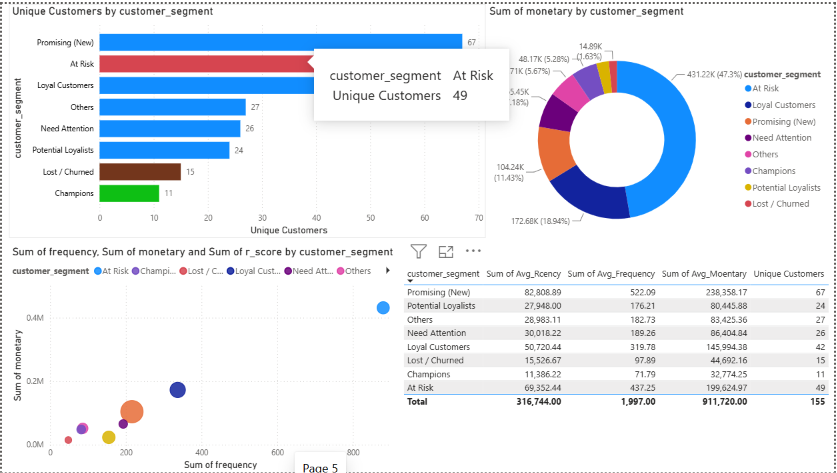

This screenshot's page, from the dashboard's own definition file:
{"tool":"powerbi","page":{"name":"Page 5","canvas":[1280,720],"ordinal":4},"visuals":[{"type":"clusteredBarChart","fields":{"Category":["public vw_rfm_segments.customer_segment"],"Y":["public retail_sales.Unique Customers"]},"box":[10,0,734,360],"z":0},{"type":"donutChart","fields":{"Category":["public vw_rfm_segments.customer_segment"],"Y":["Sum(public vw_rfm_segments.monetary)"]},"box":[744,0,536,398],"z":1000},{"type":"scatterChart","fields":{"Series":["public vw_rfm_segments.customer_segment"],"Size":["Sum(public vw_rfm_segments.r_score)"],"Y":["Sum(public vw_rfm_segments.monetary)"],"X":["Sum(public vw_rfm_segments.frequency)"]},"box":[10,370,602,350],"z":2000},{"type":"tableEx","fields":{"Values":["public vw_rfm_segments.customer_segment","Sum(public vw_rfm_segments.Avg_Rcency)","Sum(public vw_rfm_segments.Avg_Frequency)","Sum(public vw_rfm_segments.Avg_Moentary)","public retail_sales.Unique Customers"]},"box":[612,398,668,322],"z":3000}]}

Visuals, with their boxes in screenshot pixels (x1, y1, x2, y2), scaled from the page's 1280x720 canvas onto the 837x473 screenshot:
clusteredBarChart - public vw_rfm_segments.customer_segment x public retail_sales.Unique Customers: Rect(7, 0, 487, 236)
donutChart - public vw_rfm_segments.customer_segment x Sum(public vw_rfm_segments.monetary): Rect(487, 0, 836, 261)
scatterChart - public vw_rfm_segments.customer_segment x Sum(public vw_rfm_segments.r_score): Rect(7, 243, 400, 472)
tableEx - public vw_rfm_segments.customer_segment x Sum(public vw_rfm_segments.Avg_Rcency): Rect(400, 261, 836, 472)
